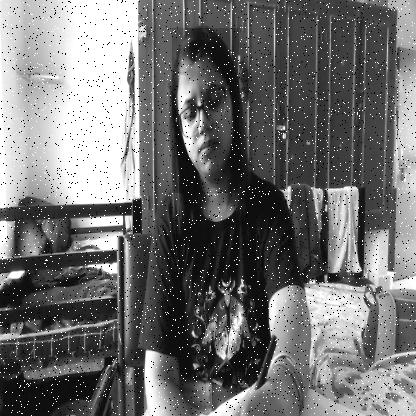Normal: (172, 28, 239, 193)
